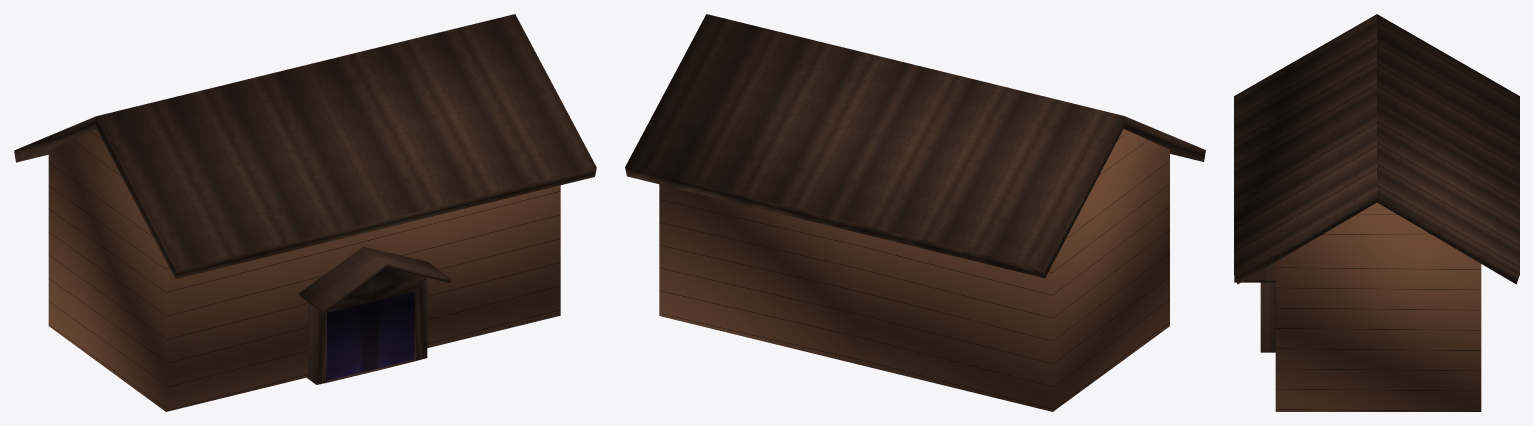
The model's file is cabin.glb.
The picture shows the model from 3 angles, left to right: view 1: azimuth 30°, elevation 25°; view 2: azimuth 150°, elevation 25°; view 3: azimuth 270°, elevation 25°; orthographic projection. The views are drawn at different scales.
Visible parts, largest first — view 1: Cylinder; view 2: Cylinder; view 3: Cylinder.
Part boxes in pixels (<box>): Cylinder: <box>14,14,596,411</box>; Cylinder: <box>625,14,1205,411</box>; Cylinder: <box>1234,14,1519,411</box>.
Bounding box in the file's own units: 6.53 × 3.89 × 4.4.
Materials: 3 (3 with a texture image).
